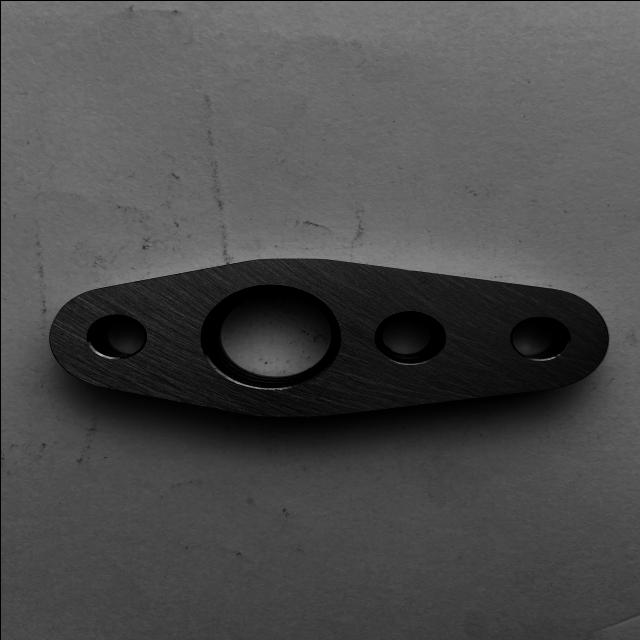chap: (475, 387, 485, 392)
